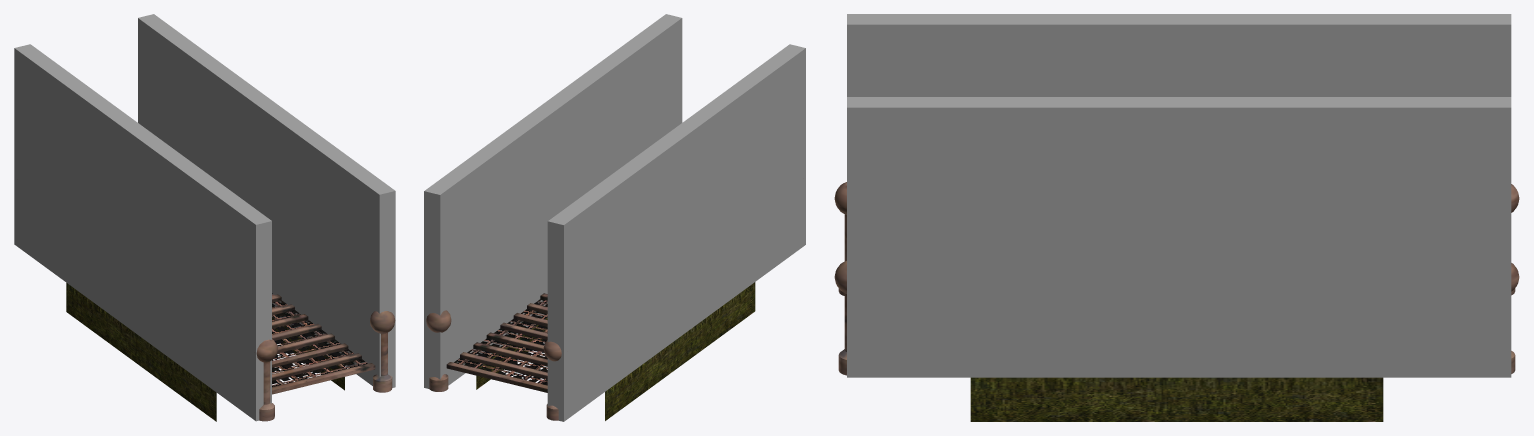
File: sewerBridgeB.fbx
3 renders of one model, left to right at view 1: azimuth 30°, elevation 25°; view 2: azimuth 150°, elevation 25°; view 3: azimuth 270°, elevation 25°, orthographic. The views are drawn at different scales.
Visible parts, largest first — view 1: mvcv_obb_sewerBridgeBQ_01, mvcv_obb_sewerBridgeBQ_02, sewerBridgeB (×2); view 2: mvcv_obb_sewerBridgeBQ_01, mvcv_obb_sewerBridgeBQ_02, sewerBridgeB (×2); view 3: mvcv_obb_sewerBridgeBQ_02, mvcv_obb_sewerBridgeBQ_01, sewerBridgeB (×2).
Boxes of the visible parts, left/top/right/bottom form: mvcv_obb_sewerBridgeBQ_01: left=14, top=44, right=271, bottom=421; mvcv_obb_sewerBridgeBQ_02: left=138, top=14, right=395, bottom=387; sewerBridgeB (×2): left=17, top=179, right=395, bottom=421; mvcv_obb_sewerBridgeBQ_01: left=547, top=44, right=805, bottom=421; mvcv_obb_sewerBridgeBQ_02: left=424, top=14, right=682, bottom=388; sewerBridgeB (×2): left=426, top=282, right=755, bottom=420; mvcv_obb_sewerBridgeBQ_02: left=847, top=97, right=1511, bottom=377; mvcv_obb_sewerBridgeBQ_01: left=847, top=14, right=1511, bottom=96; sewerBridgeB (×2): left=834, top=182, right=1519, bottom=421.
Size of the model in its own units: 149 by 235 by 460.
4 materials, 3 textured.
